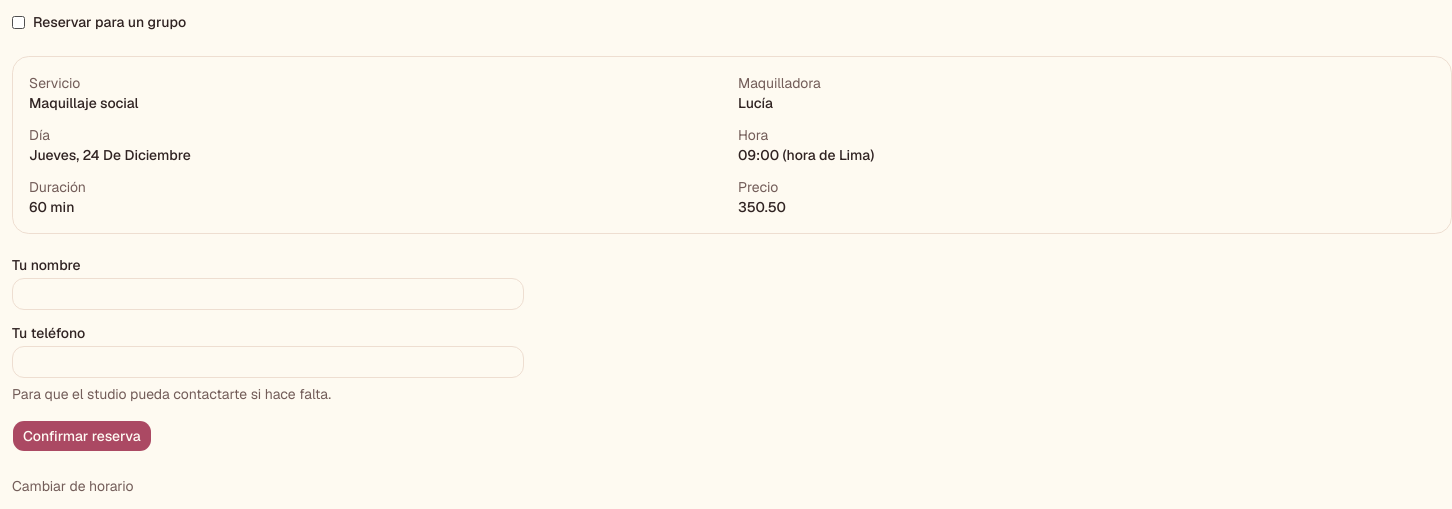
respuestas del servidor › al crearse la reserva borra el estado y lleva a la página de estado
Click the button "Confirmar reserva".
click(82, 436)  # box left=12, top=420, right=152, bottom=452
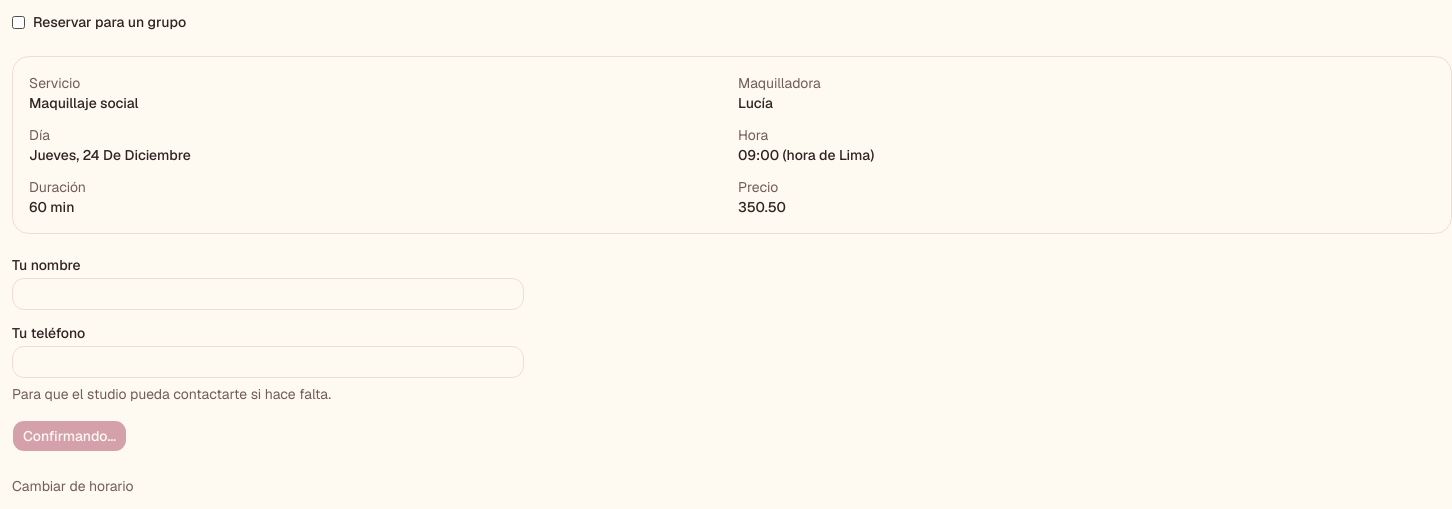
Expected: the button "Confirmando…" is disabled, left=12, top=420, right=127, bottom=452
